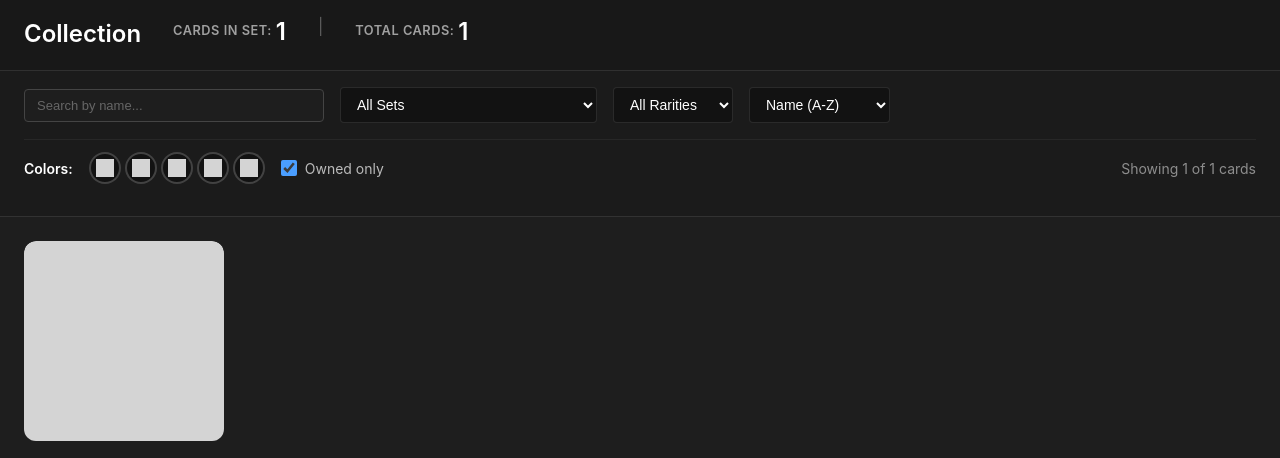
Scenario: Collection › Set Completion Panel › should show Set Completion button when a set is selected (#756)
This screenshot has width=1280, height=458.
Expected: the heading "Collection" is shown, [24, 16, 141, 52]
Note: Select a set from the dropdown
Select "Strixhaven Mystical Archive (STA)" in the 1st dropdown showing "All Sets" at (468, 105), box [340, 87, 597, 123]
Wait 100 ms
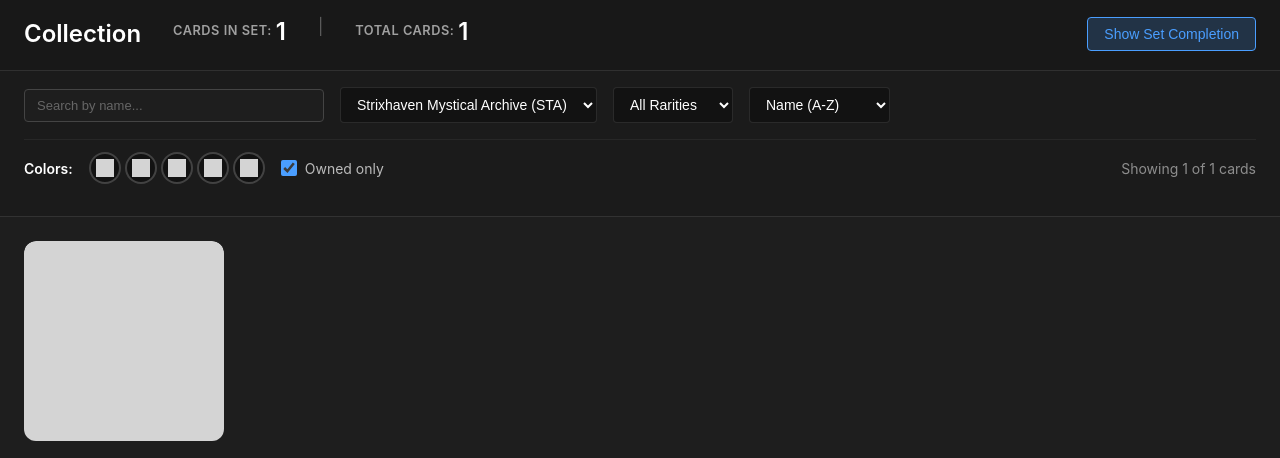
Expected: the button "Show Set Completion" is shown, [1087, 17, 1256, 51]
